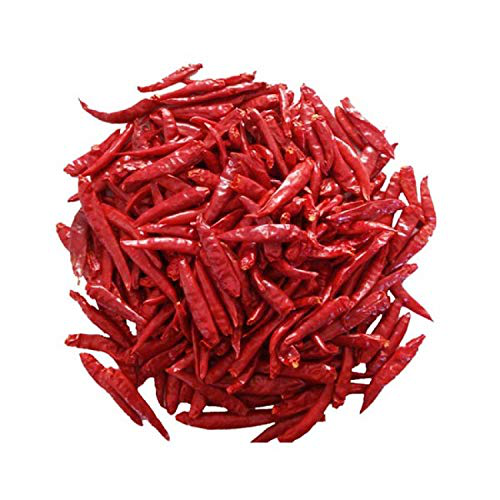Cabai: (83, 79, 419, 437)
